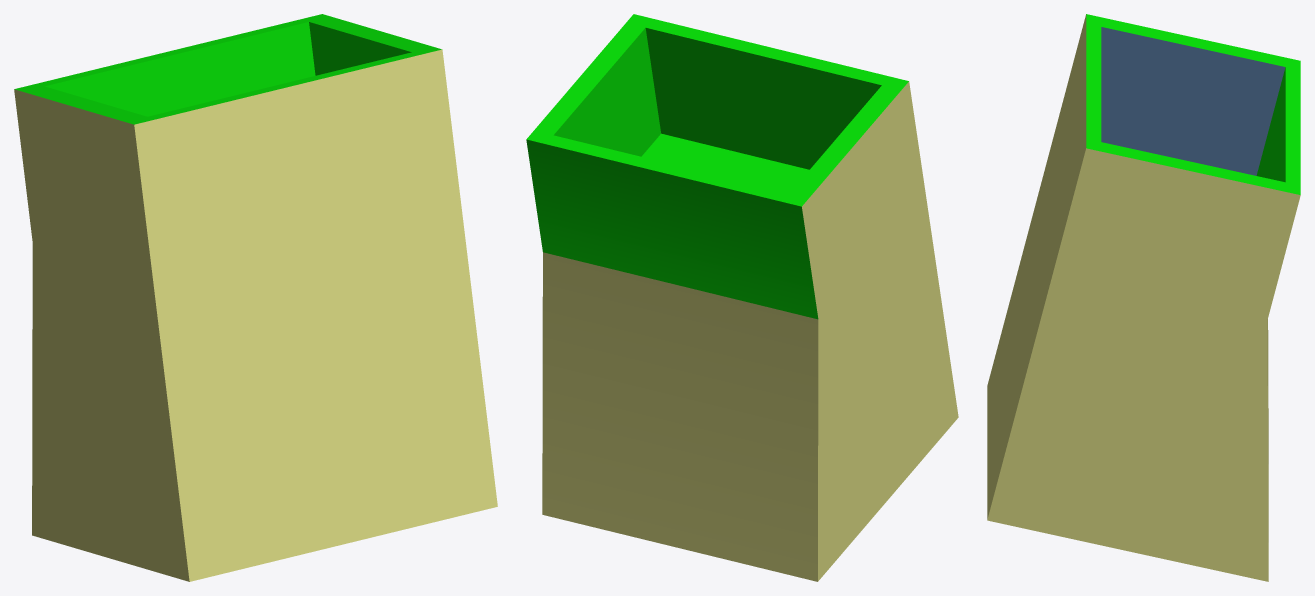
File: yesil_kutu.fbx
The picture shows the model from 3 angles, left to right: view 1: azimuth 30°, elevation 25°; view 2: azimuth 150°, elevation 25°; view 3: azimuth 270°, elevation 25°; orthographic projection. The views are drawn at different scales.
Visible parts, largest first — view 1: pCube3; view 2: pCube3; view 3: pCube3.
Part boxes in pixels (x1=…): pCube3: x1=14, y1=14, x2=497, y2=581; pCube3: x1=526, y1=14, x2=958, y2=581; pCube3: x1=987, y1=14, x2=1300, y2=581.
Size of the model in its own units: 4.33 by 6.51 by 4.27.
